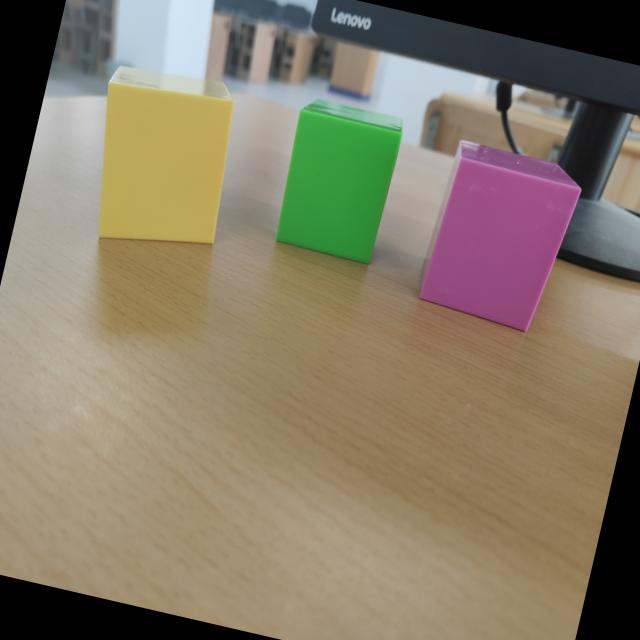green: (274, 102, 403, 266)
pink: (416, 141, 581, 333)
yellow: (100, 67, 233, 243)
